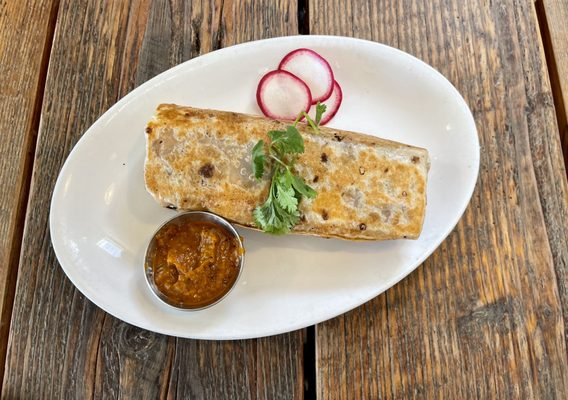soup: (143, 103, 429, 238)
sushi: (143, 211, 245, 312)
